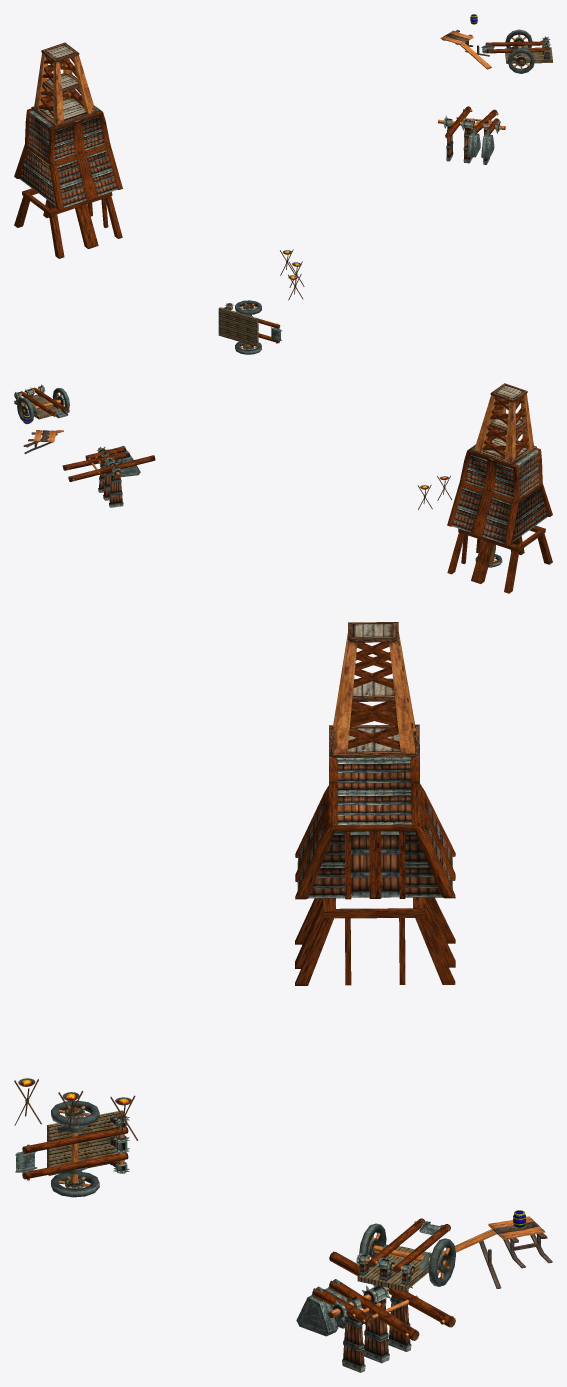
File: CONTRAPTION4.fbx
3 renders of one model, top to bottom at view 1: azimuth 30°, elevation 25°; view 2: azimuth 150°, elevation 25°; view 3: azimuth 270°, elevation 25°, orthographic. The views are drawn at different scales.
Parts seen in each view (by area): view 1: CONTRAPTION4; view 2: CONTRAPTION4; view 3: CONTRAPTION4.
Part boxes in pixels (box(x1,y1,x2,y2)): CONTRAPTION4: box(14, 14, 552, 354); CONTRAPTION4: box(14, 383, 552, 593); CONTRAPTION4: box(14, 622, 552, 1372).
Size of the model in its own units: 526329 by 253224 by 263337.
21 materials, 21 textured.
